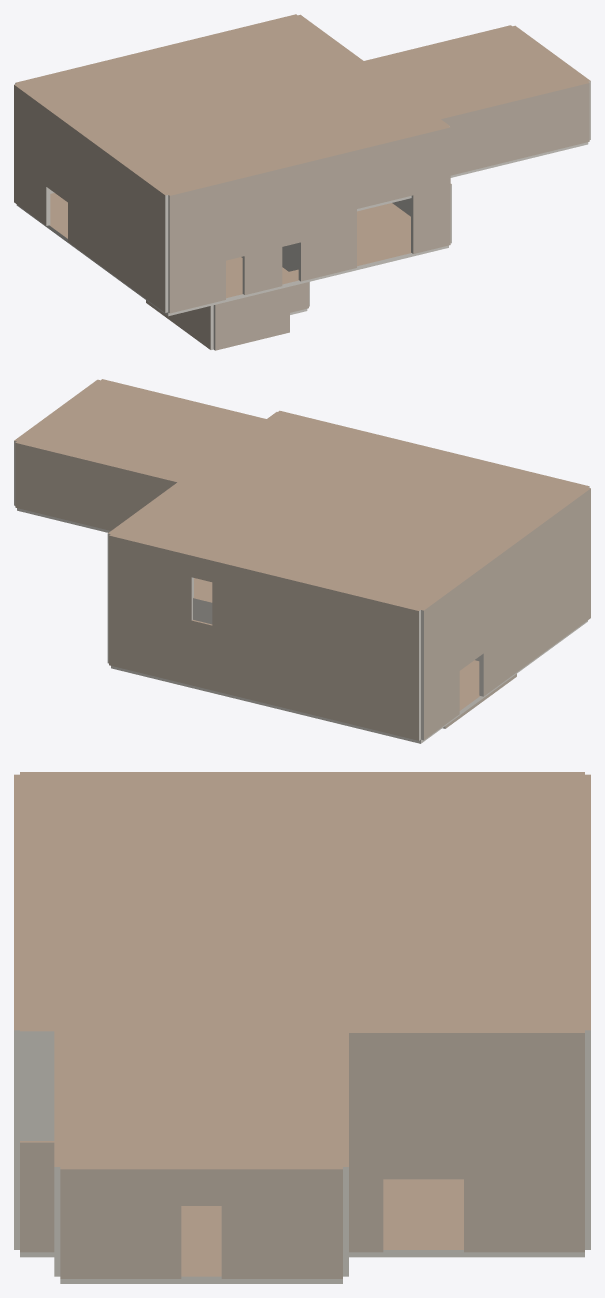
The model's file is MetaHouseWallsFloors.fbx.
3 views of the same model, one above another, from view 1: azimuth 30°, elevation 25°; view 2: azimuth 150°, elevation 25°; view 3: azimuth 270°, elevation 25° (orthographic). The views are drawn at different scales.
Visible parts, largest first — view 1: Structure_Floor_0_0_7, Structure_Floor_0_0_19, Structure_Exterior_Wall_Straight_0_0_91, Structure_Exterior_Wall_Straight_0_0_79, Structure_Exterior_Wall_Straight_0_0_78, Structure_Exterior_Wall_Straight_0_0_114, Structure_Exterior_Wall_Straight_0_0_74, Structure_Exterior_Wall_Straight_0_0_27, Structure_Exterior_Wall_Straight_0_0_75, Structure_Exterior_Wall_Straight_0_0_77, Structure_Exterior_Wall_Straight_0_0_104, Structure_Exterior_Wall_Straight_0_0_59 (+22 smaller); view 2: Structure_Floor_0_0_7, Structure_Floor_0_0_19, Structure_Exterior_Wall_Straight_0_0_73, Structure_Exterior_Wall_Straight_0_0_95, Structure_Exterior_Wall_Straight_0_0_62, Structure_Exterior_Wall_Straight_0_0_74, Structure_Exterior_Wall_Straight_0_0_77, Structure_Exterior_Wall_Straight_0_0_104, Structure_Exterior_Wall_Straight_0_0_75, Structure_Exterior_Wall_Straight_0_0_80, Structure_Exterior_Wall_Straight_0_0_81, Structure_Exterior_Wall_Straight_0_0_102 (+29 smaller); view 3: Structure_Floor_0_0_7, Structure_Floor_0_0_19, Structure_Exterior_Wall_Straight_0_0_26, Structure_Exterior_Wall_Straight_0_0_39, Structure_Exterior_Wall_Straight_0_0_21, Structure_Exterior_Wall_Straight_0_0_70, Structure_Exterior_Wall_Straight_0_0_71, Structure_Exterior_Wall_Straight_0_0_22, Structure_Exterior_Wall_Straight_0_0_23, Structure_Exterior_Wall_Straight_0_0_24, Structure_Exterior_Wall_Straight_0_0_25, Structure_Exterior_Wall_Straight_0_0_72 (+23 smaller).
Part boxes in pixels (x1,y1,x2,y2): Structure_Floor_0_0_7: (17, 15, 447, 194); Structure_Floor_0_0_19: (363, 27, 586, 117); Structure_Exterior_Wall_Straight_0_0_91: (168, 126, 450, 215); Structure_Exterior_Wall_Straight_0_0_79: (168, 166, 450, 254); Structure_Exterior_Wall_Straight_0_0_78: (168, 147, 450, 234); Structure_Exterior_Wall_Straight_0_0_114: (168, 209, 356, 274); Structure_Exterior_Wall_Straight_0_0_74: (14, 84, 168, 214); Structure_Exterior_Wall_Straight_0_0_27: (438, 81, 589, 136); Structure_Exterior_Wall_Straight_0_0_75: (14, 104, 168, 234); Structure_Exterior_Wall_Straight_0_0_77: (14, 124, 168, 254); Structure_Exterior_Wall_Straight_0_0_104: (14, 143, 168, 273); Structure_Exterior_Wall_Straight_0_0_59: (450, 102, 589, 155); Structure_Floor_0_0_7: (113, 412, 586, 609); Structure_Floor_0_0_19: (18, 380, 264, 481); Structure_Exterior_Wall_Straight_0_0_73: (109, 534, 420, 632); Structure_Exterior_Wall_Straight_0_0_95: (212, 582, 420, 654); Structure_Exterior_Wall_Straight_0_0_62: (212, 604, 420, 675); Structure_Exterior_Wall_Straight_0_0_74: (420, 487, 590, 631); Structure_Exterior_Wall_Straight_0_0_77: (421, 532, 590, 675); Structure_Exterior_Wall_Straight_0_0_104: (421, 553, 590, 696); Structure_Exterior_Wall_Straight_0_0_75: (421, 510, 590, 653); Structure_Exterior_Wall_Straight_0_0_80: (15, 441, 182, 498); Structure_Exterior_Wall_Straight_0_0_81: (15, 464, 154, 514); Structure_Exterior_Wall_Straight_0_0_102: (479, 575, 590, 674); Structure_Floor_0_0_7: (20, 774, 584, 1030); Structure_Floor_0_0_19: (60, 1030, 342, 1166); Structure_Exterior_Wall_Straight_0_0_26: (60, 1166, 342, 1205); Structure_Exterior_Wall_Straight_0_0_39: (20, 1141, 584, 1179); Structure_Exterior_Wall_Straight_0_0_21: (343, 1029, 584, 1069); Structure_Exterior_Wall_Straight_0_0_70: (349, 1069, 584, 1105); Structure_Exterior_Wall_Straight_0_0_71: (349, 1106, 584, 1142); Structure_Exterior_Wall_Straight_0_0_22: (60, 1206, 181, 1242); Structure_Exterior_Wall_Straight_0_0_23: (221, 1206, 342, 1242); Structure_Exterior_Wall_Straight_0_0_24: (60, 1242, 181, 1278); Structure_Exterior_Wall_Straight_0_0_25: (221, 1242, 342, 1278); Structure_Exterior_Wall_Straight_0_0_72: (464, 1179, 584, 1215).
Size of the model in its own units: 2330 by 900 by 1430.
